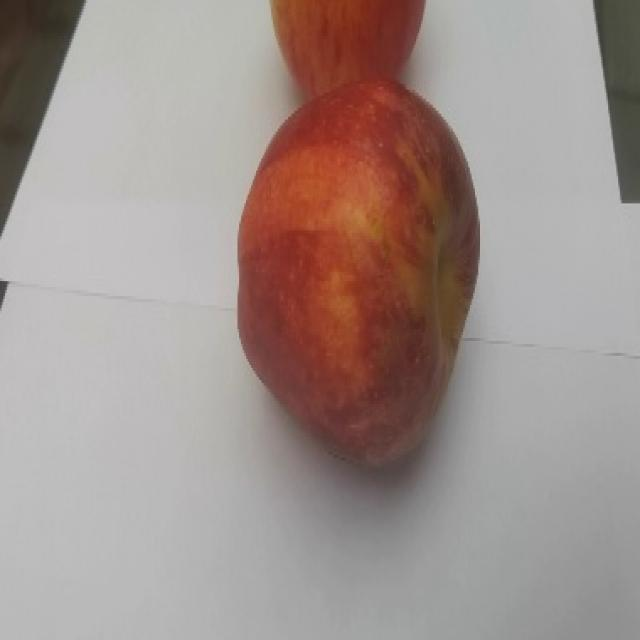Apple: (235, 77, 480, 469), (269, 0, 426, 101)
